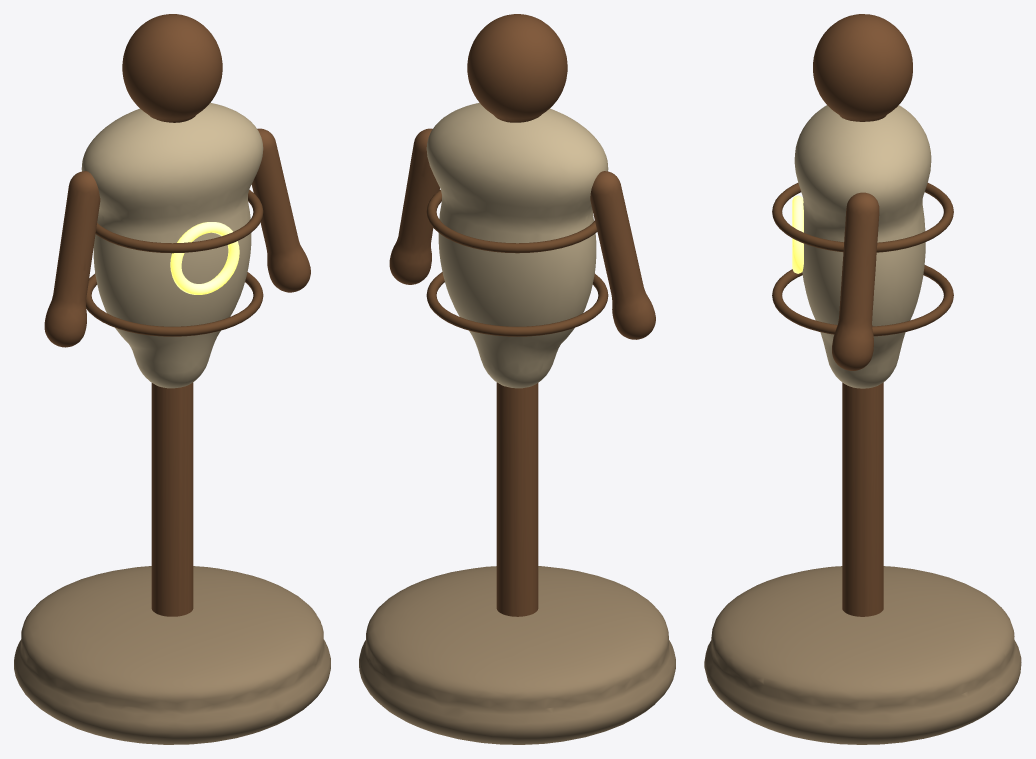
Rendered from training_dummy.glb.
3 views of the same model, side by side, from view 1: azimuth 30°, elevation 25°; view 2: azimuth 150°, elevation 25°; view 3: azimuth 270°, elevation 25° (orthographic).
Visible parts, largest first — view 1: Base, TorsoMesh, Post, Head, ArmMesh_R, ArmMesh_L, Strap_0, Strap_1, WardTarget; view 2: Base, TorsoMesh, Post, Head, ArmMesh_R, ArmMesh_L, Strap_0, Strap_1; view 3: Base, TorsoMesh, Post, Head, ArmMesh_L, Strap_1, Strap_0, WardTarget.
Boxes of the visible parts, x1,y1,x2,y2 form: Base: (14, 566, 330, 744); TorsoMesh: (81, 102, 263, 388); Post: (151, 382, 193, 616); Head: (122, 14, 222, 122); ArmMesh_R: (44, 171, 100, 347); ArmMesh_L: (251, 128, 310, 292); Strap_0: (86, 272, 263, 336); Strap_1: (95, 190, 263, 253); WardTarget: (170, 222, 239, 294); Base: (359, 566, 675, 744); TorsoMesh: (426, 102, 608, 388); Post: (496, 382, 538, 616); Head: (467, 14, 567, 122); ArmMesh_R: (590, 171, 655, 339); ArmMesh_L: (389, 128, 439, 284); Strap_0: (426, 272, 608, 336); Strap_1: (426, 190, 597, 253); Base: (704, 566, 1021, 744); TorsoMesh: (794, 105, 931, 388); Post: (842, 382, 883, 616); Head: (813, 14, 912, 121); ArmMesh_L: (832, 192, 879, 370); Strap_1: (772, 183, 953, 252); Strap_0: (772, 265, 953, 336); WardTarget: (792, 195, 803, 273).
Size of the model in its own units: 0.7567 by 1.82 by 0.7566.
